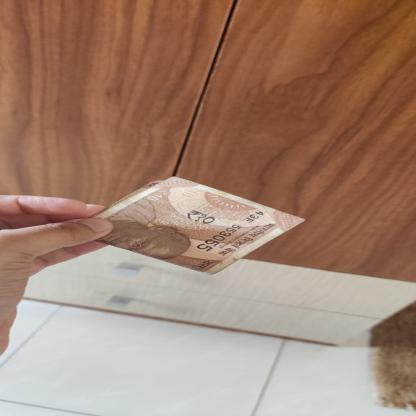New10Front: (90, 175, 309, 276)
